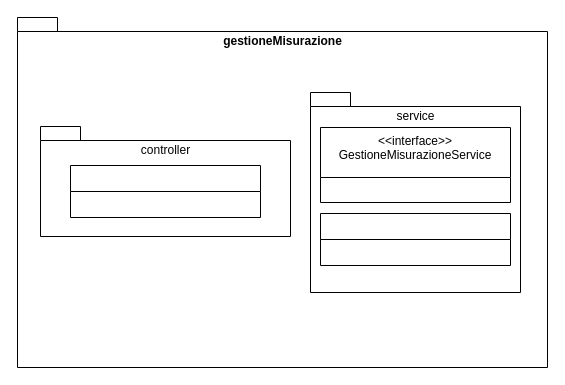
This 565x385 diagram has some shape labels left out. The box of each missing label's shape, as (x1, y1, x2, y2) in pixels:
GestioneMisurazioneController: (70, 164, 260, 218)
GestioneMisurazioneServiceImpl: (320, 212, 510, 266)
